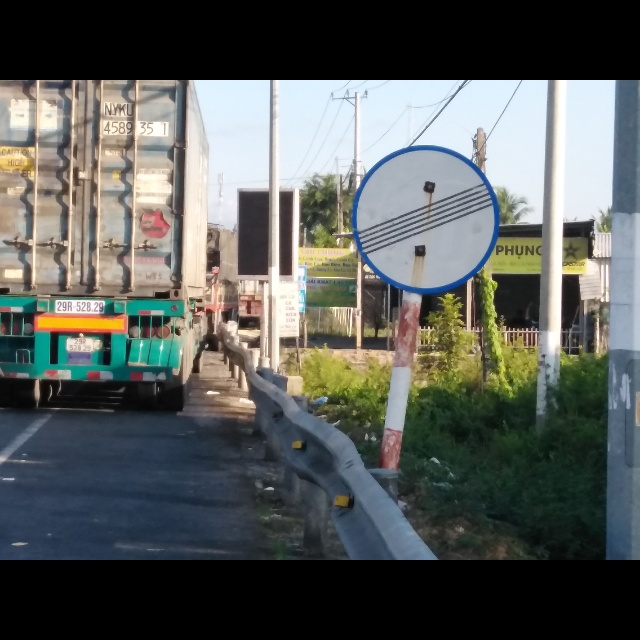Hết tất cả các lệnh cấm: (345, 140, 503, 291)
